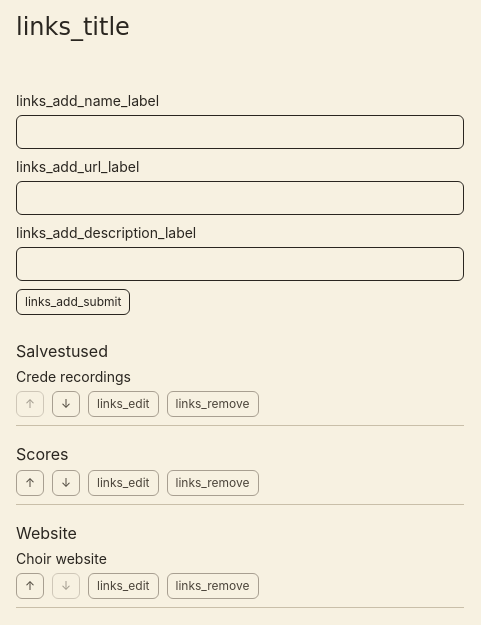
Test: #323 — SAVED: announced on the persistent role="status" node (#267 shape) › a settled reorder announces links_reorder_saved on the SAME node that was empty before — saved is distinguishable from never-touched
Click the button with test id "links-move-down" below "Scores" at (66, 483), box [52,470,80,496]
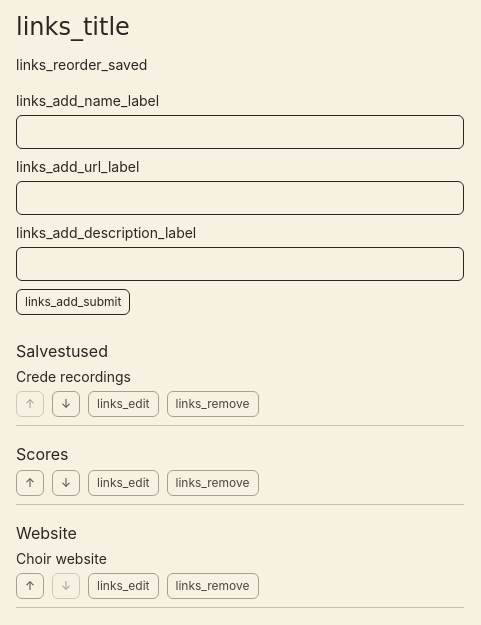
Expected: the message "links_reorder_saved" is shown, [16,56,147,73]
